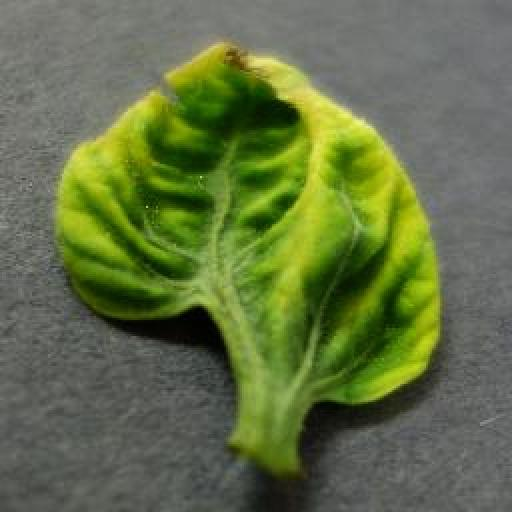disease_tomato: (54, 40, 444, 406)
